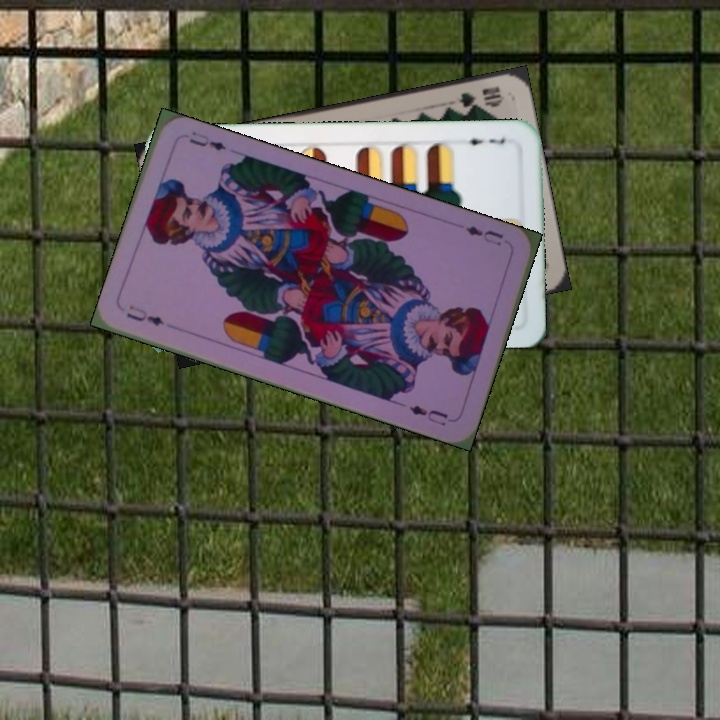E7: (458, 133, 508, 148)
EU: (461, 221, 506, 249), (122, 301, 167, 329)
G10: (455, 82, 506, 111)
